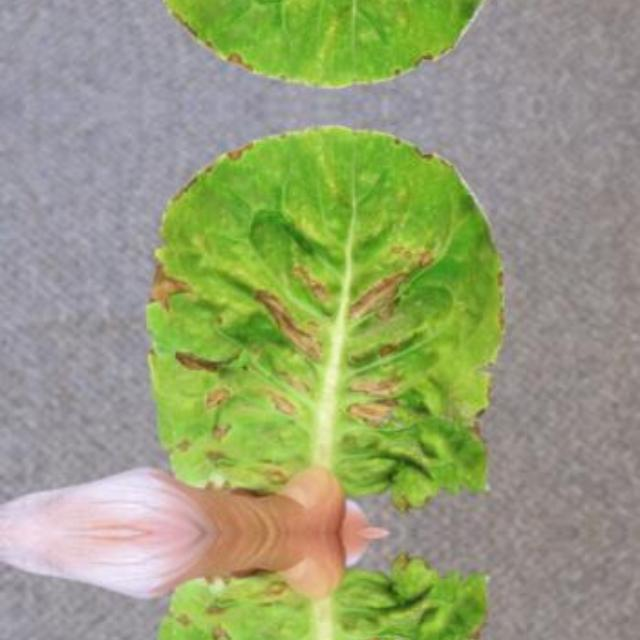lettuce mosaic virus: (174, 158, 472, 494), (174, 570, 472, 640), (174, 0, 472, 53)
